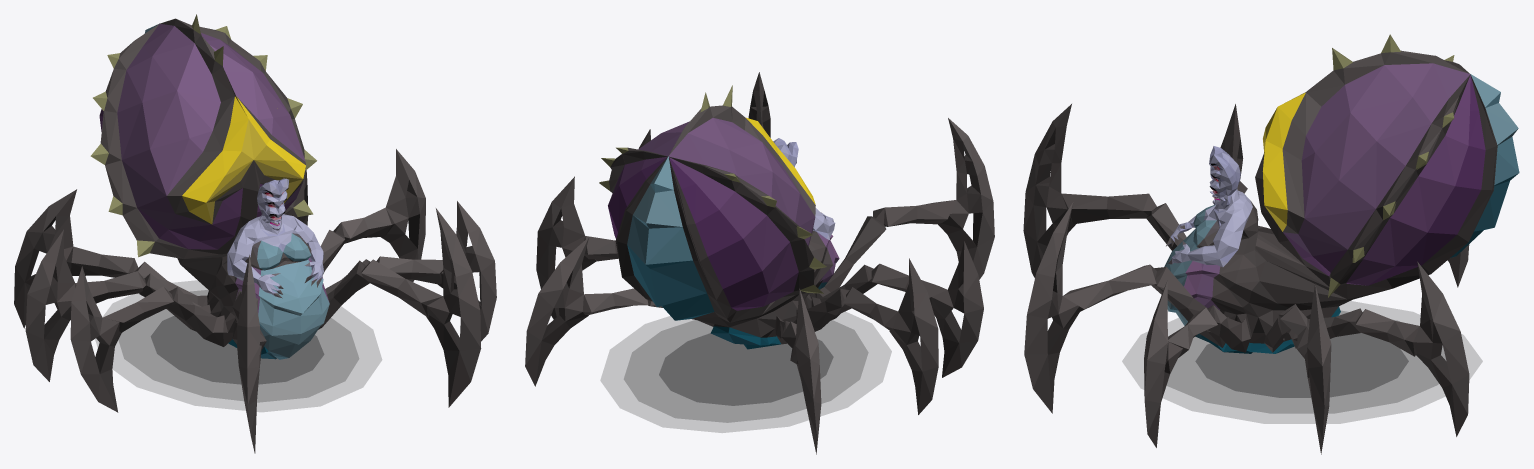
The model's file is verzik.glb.
3 renders of one model, left to right at view 1: azimuth 30°, elevation 25°; view 2: azimuth 150°, elevation 25°; view 3: azimuth 270°, elevation 25°, orthographic. The views are drawn at different scales.
Size of the model in its own units: 741 by 561 by 734.
2 materials, 2 textured.
